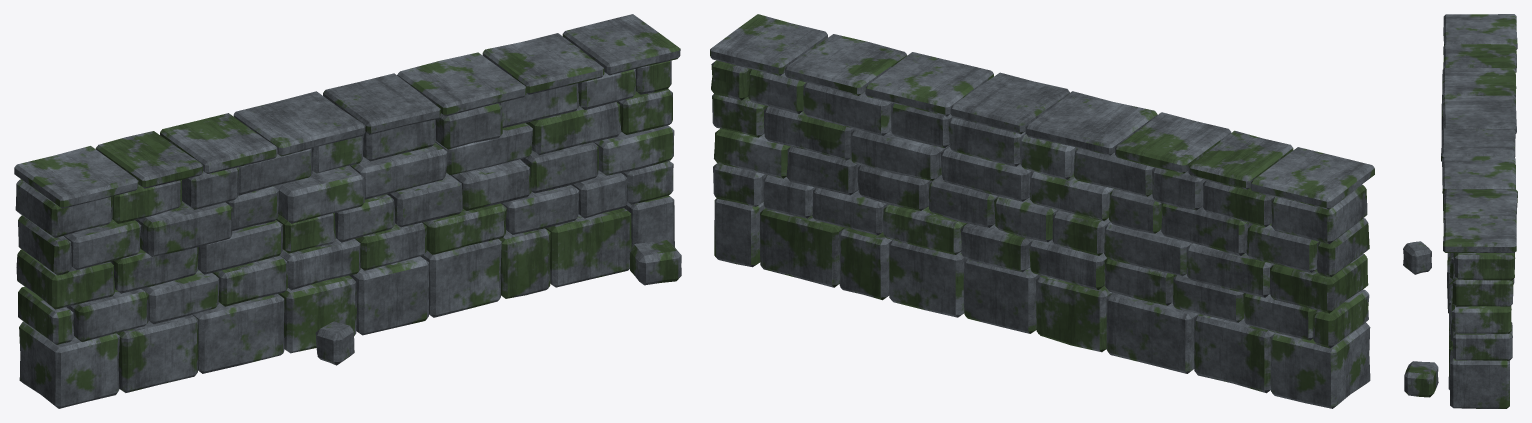
Rendered from Bell_Retain_Wall_Long.glb.
The picture shows the model from 3 angles, left to right: view 1: azimuth 30°, elevation 25°; view 2: azimuth 150°, elevation 25°; view 3: azimuth 270°, elevation 25°; orthographic projection. The views are drawn at different scales.
Parts seen in each view (by area): view 1: Bell_Retain_Wall_Long__Stone2, Bell_Retain_Wall_Long__Stone; view 2: Bell_Retain_Wall_Long__Stone2, Bell_Retain_Wall_Long__Stone; view 3: Bell_Retain_Wall_Long__Stone2, Bell_Retain_Wall_Long__Stone.
Part boxes in pixels (x1,y1,x2,y2): Bell_Retain_Wall_Long__Stone2: [14, 14, 680, 309]; Bell_Retain_Wall_Long__Stone: [18, 161, 681, 408]; Bell_Retain_Wall_Long__Stone2: [710, 14, 1374, 313]; Bell_Retain_Wall_Long__Stone: [713, 163, 1370, 408]; Bell_Retain_Wall_Long__Stone2: [1441, 14, 1517, 333]; Bell_Retain_Wall_Long__Stone: [1403, 241, 1512, 408].
Bounding box in the file's own units: 24 × 8.01 × 5.01.
Materials: 1 (1 with a texture image).
